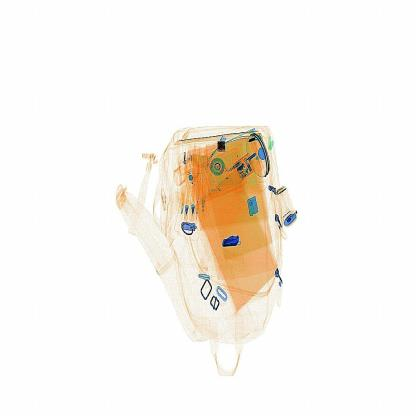knife: (220, 231, 243, 252)
